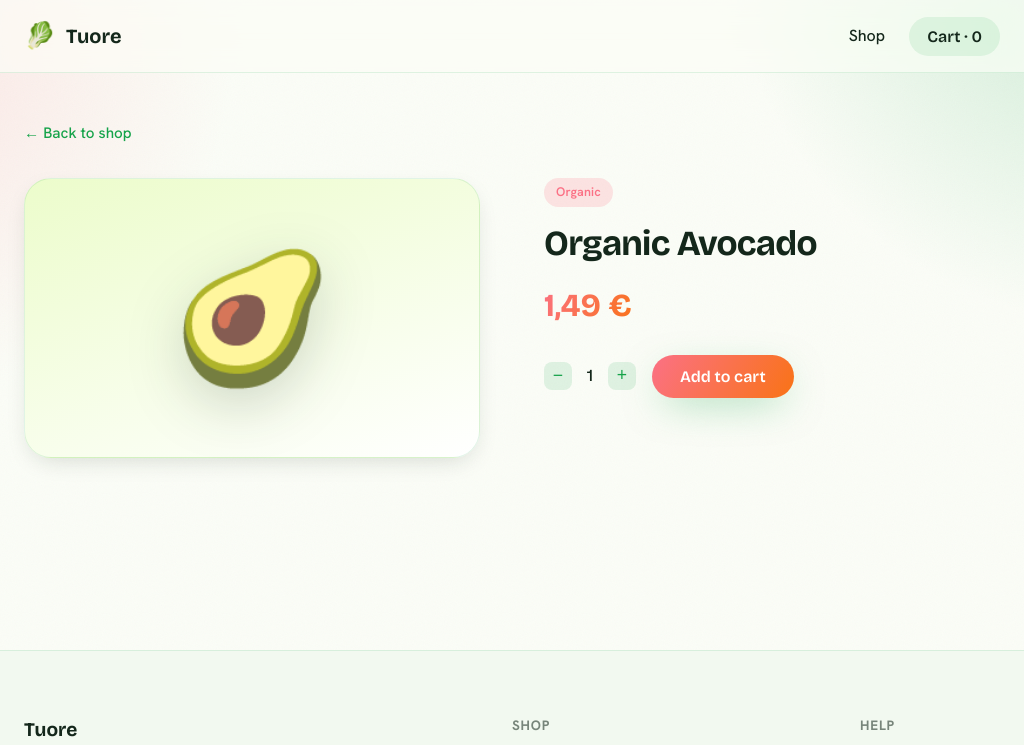
Test: ProductDetail › increments qty and adds correct count to cart
// Increase qty from 1 to 3
Click the button named "increase quantity": (622, 376) [608,362,636,390]
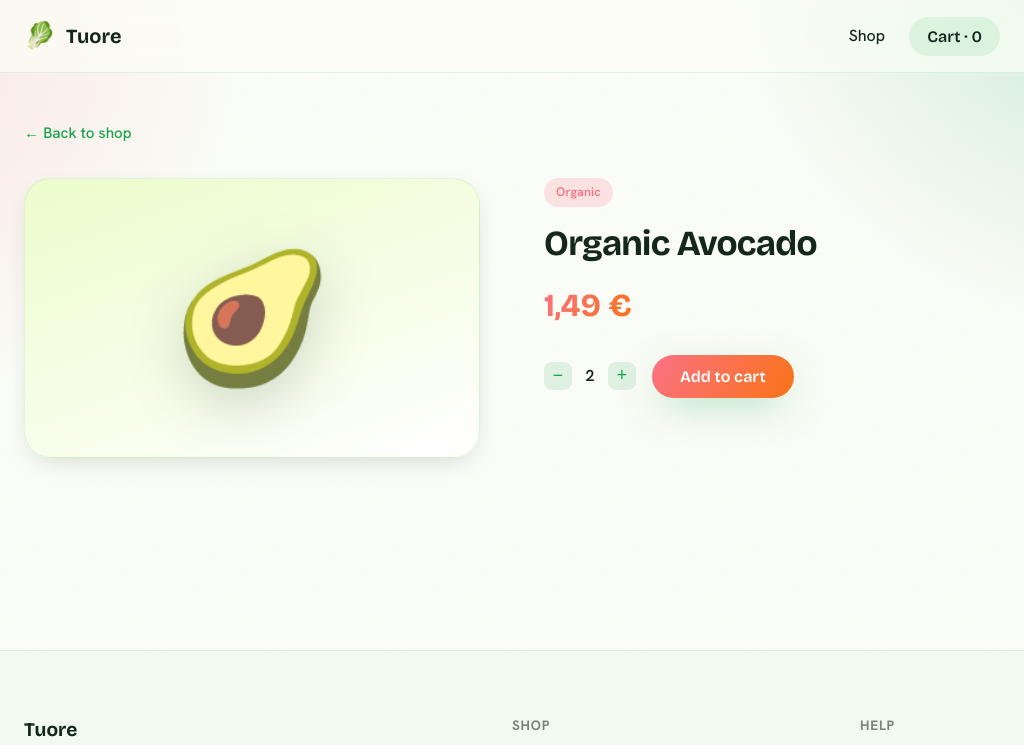
Click the button named "increase quantity": (622, 376) [608,362,636,390]
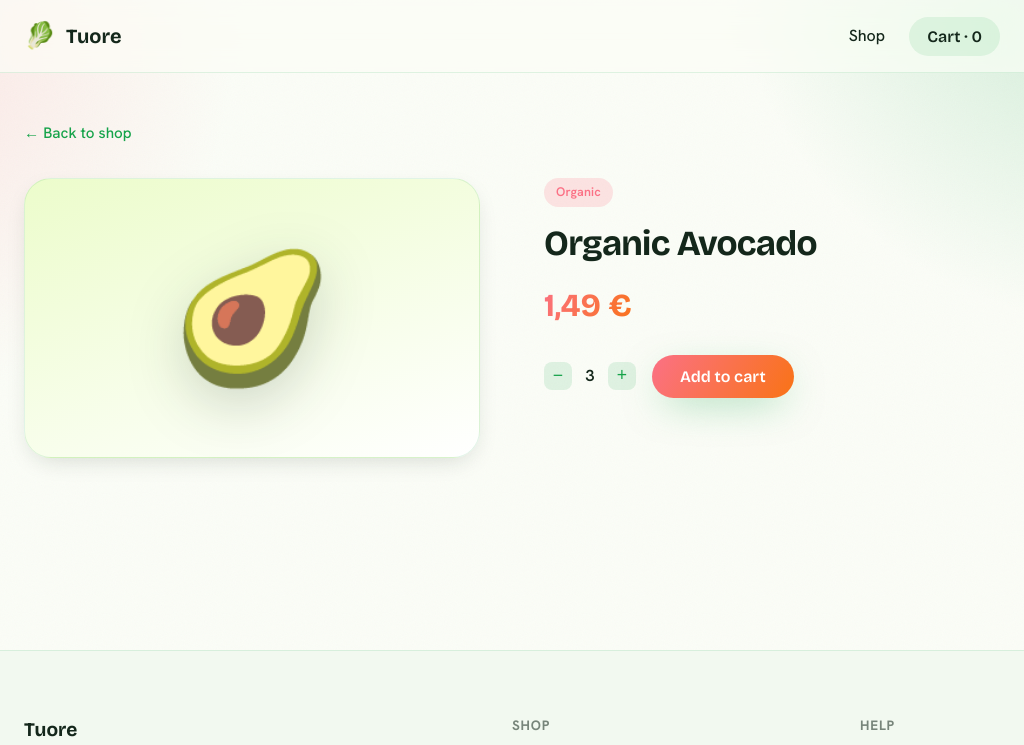
Expected: the text "3" is shown, [586,365,594,386]
Click the button with aria-label "add organic avocado to cart": (723, 376) [652,355,794,398]
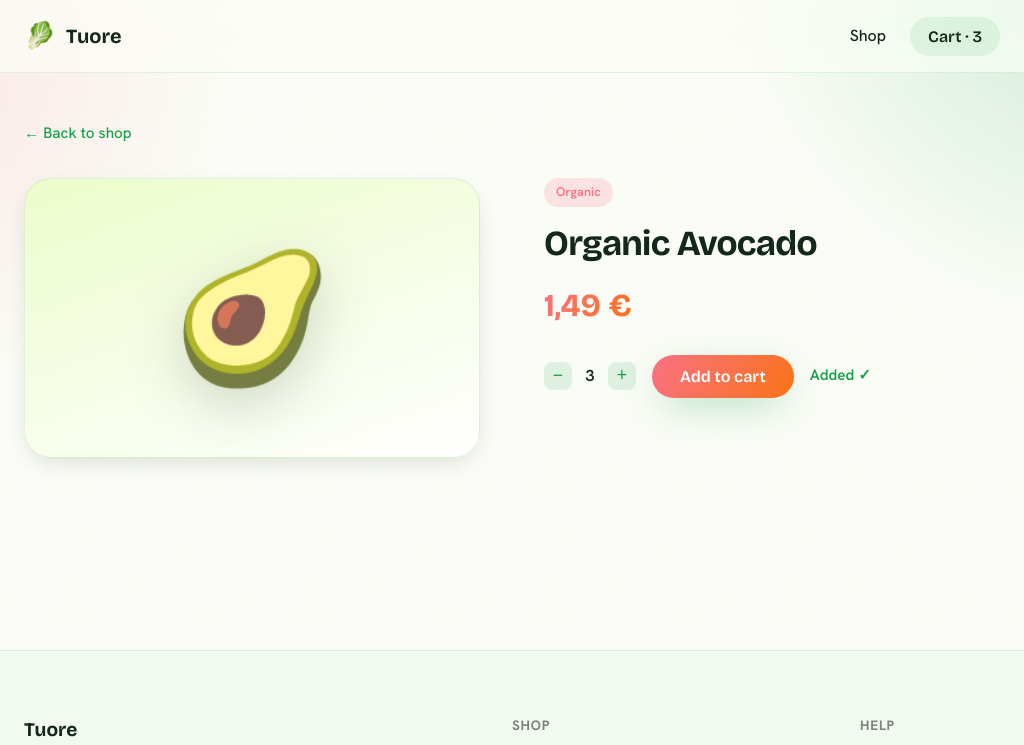
Expected: the button "Cart · 3" is shown, [910,16,1000,56]
